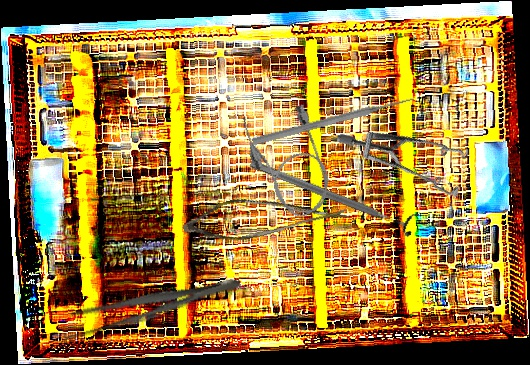Cannula: (236, 95, 342, 228)
Dressing Forceps: (57, 266, 244, 345)
Fixation Ring: (245, 150, 420, 239)
Micro Scissor: (179, 168, 354, 264)
Pusher: (251, 93, 416, 148)
Speculum: (335, 77, 487, 232)
